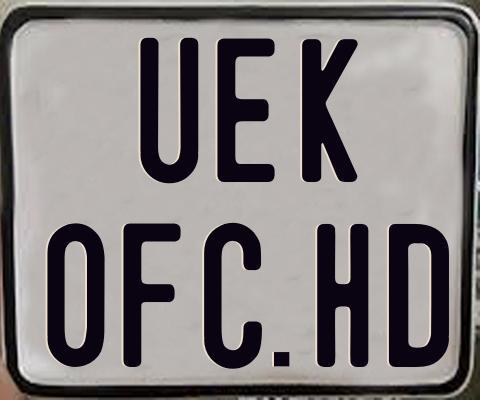0: (45, 220, 106, 366)
C: (203, 223, 265, 373)
D: (388, 223, 449, 372)
E: (217, 38, 281, 182)
F: (122, 222, 186, 371)
H: (317, 221, 373, 364)
K: (299, 38, 357, 185)
U: (137, 35, 201, 186)
